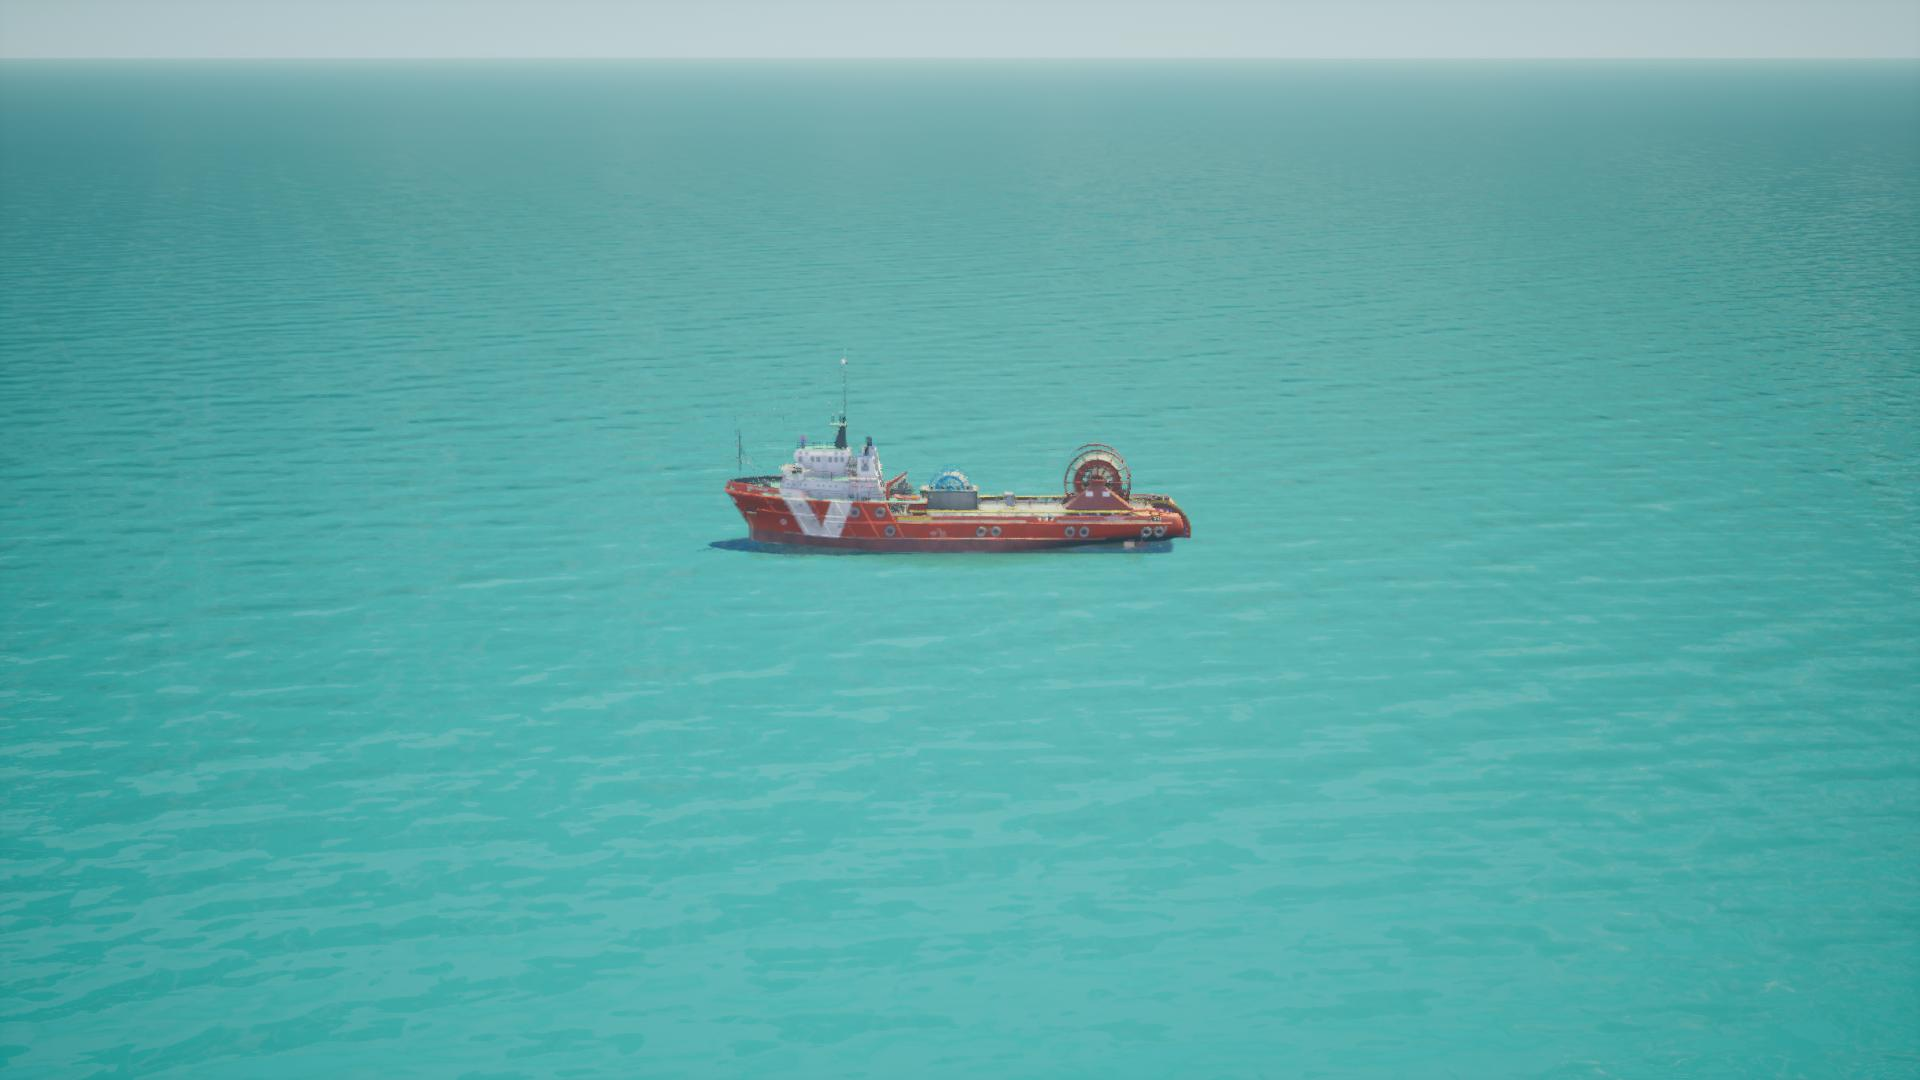Tug Boat: (716, 423, 1187, 559)
